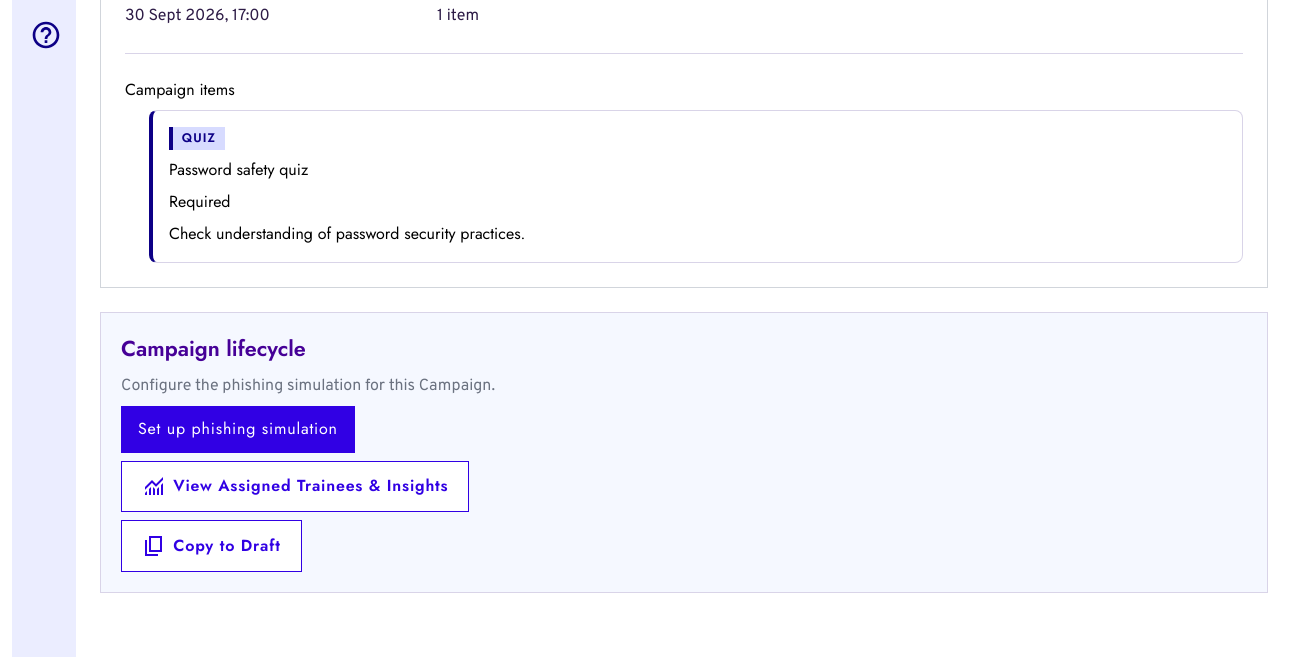
CampaignManagementDetailPage activation › shows optional portal evidence supplied by Campaign statistics
This screenshot has width=1292, height=657.
(page scrolled)
Click the button "View Assigned Trainees & Insights": (295, 486) [121,461,469,512]
(page scrolled)
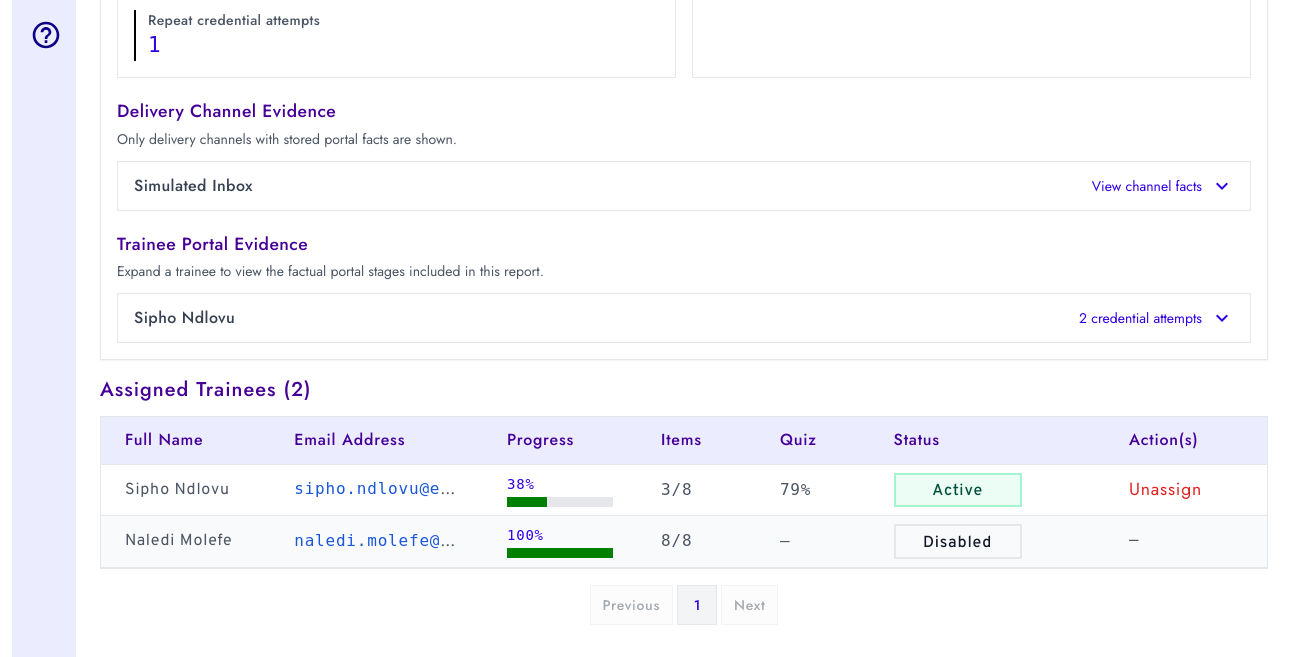
Check: the text "Simulated Inbox" is shown, box [134,174,253,198]
Check: the text "Sipho Ndlovu" is shown, box [134,306,235,330]
